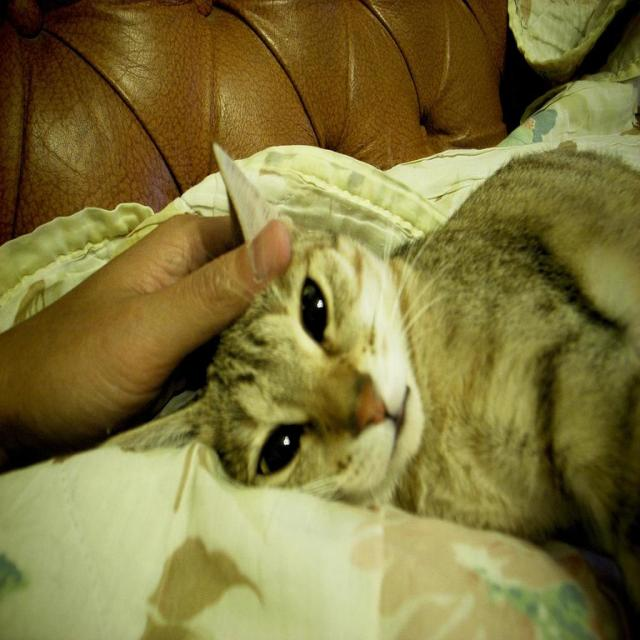Cat: (96, 135, 638, 625)
